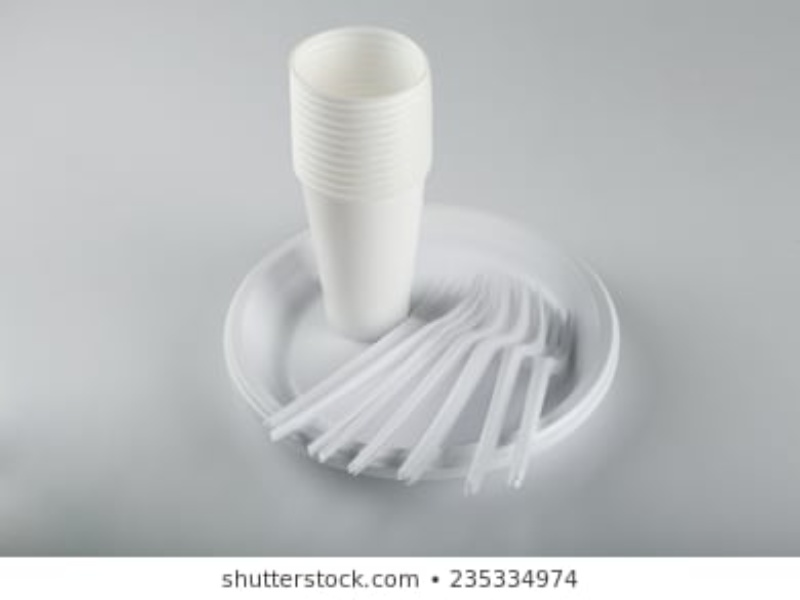plastic-cup: (284, 22, 434, 342)
plastic-plate: (219, 196, 627, 482)
plastic-silverware: (264, 263, 478, 439), (347, 267, 510, 477), (393, 289, 532, 488), (396, 296, 524, 480), (466, 298, 549, 483), (511, 304, 575, 480)
